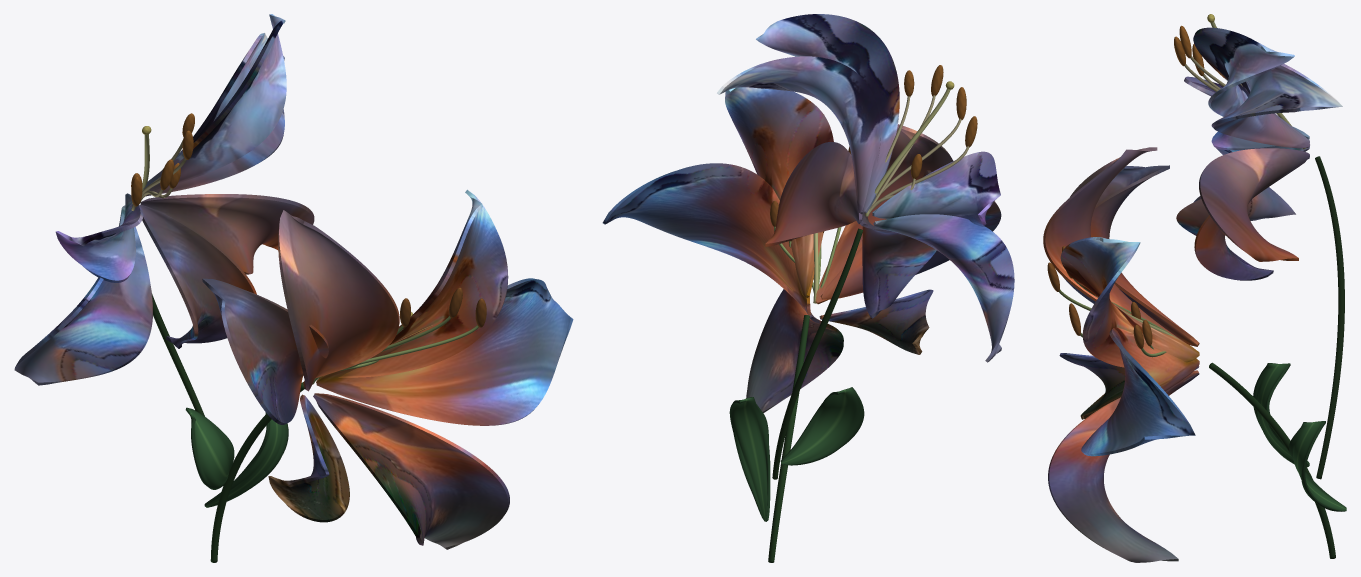
The model's file is lily-model.glb.
3 views of the same model, side by side, from view 1: azimuth 30°, elevation 25°; view 2: azimuth 150°, elevation 25°; view 3: azimuth 270°, elevation 25° (orthographic). The views are drawn at different scales.
Visible parts, largest first — view 1: lily-front-petal-right, lily-front-petal-lower-right, lily-front-petal-upper-left, lily-rear-petal-lower-left, lily-front-petal-upper-right, lily-front-petal-left, lily-rear-petal-top, lily-rear-petal-lower-right, lily-rear-petal-right, lily-front-petal-lower-left, lily-rear-petal-left, lily-rear-petal-upper-right (+4 smaller); view 2: lily-front-petal-right, lily-front-petal-upper-right, lily-rear-petal-top, lily-rear-petal-upper-right, lily-rear-petal-lower-left, lily-rear-petal-right, lily-front-petal-lower-right, lily-rear-petal-left, lily-rear-petal-lower-right, lily-leaf-left, lily-leaf-right, lily-front-petal-upper-left (+5 smaller); view 3: lily-front-petal-lower-right, lily-front-petal-right, lily-rear-petal-right, lily-front-petal-upper-right, lily-rear-petal-upper-right, lily-rear-petal-top, lily-front-petal-upper-left, lily-front-petal-left, lily-rear-petal-lower-right, lily-rear-branch-stem, lily-leaf-right, lily-front-petal-lower-left (+4 smaller).
Part boxes in pixels (x1,y1,x2,y2): lily-front-petal-right: [316, 278, 573, 425]; lily-front-petal-lower-right: [313, 393, 509, 549]; lily-front-petal-upper-left: [278, 210, 399, 391]; lily-rear-petal-lower-left: [14, 205, 152, 385]; lily-front-petal-upper-right: [338, 189, 508, 377]; lily-front-petal-left: [202, 278, 328, 424]; lily-rear-petal-top: [143, 14, 286, 191]; lily-rear-petal-lower-right: [140, 205, 256, 348]; lily-rear-petal-right: [140, 194, 314, 274]; lily-front-petal-lower-left: [268, 394, 349, 522]; lily-rear-petal-left: [55, 193, 143, 282]; lily-rear-petal-upper-right: [146, 33, 284, 196]; lily-front-petal-right: [602, 163, 809, 307]; lily-front-petal-upper-right: [725, 87, 833, 297]; lily-rear-petal-top: [756, 14, 899, 213]; lily-rear-petal-upper-right: [717, 56, 880, 214]; lily-rear-petal-lower-left: [873, 214, 1014, 362]; lily-rear-petal-right: [765, 142, 862, 246]; lily-front-petal-lower-right: [746, 289, 843, 412]; lily-rear-petal-left: [872, 151, 1000, 226]; lily-rear-petal-lower-right: [859, 213, 936, 318]; lily-leaf-left: [780, 387, 864, 465]; lily-leaf-right: [729, 397, 770, 521]; lily-front-petal-upper-left: [815, 124, 953, 304]; lily-front-petal-lower-right: [1048, 370, 1199, 562]; lily-front-petal-right: [1081, 327, 1199, 456]; lily-rear-petal-right: [1199, 148, 1309, 261]; lily-front-petal-upper-right: [1060, 237, 1199, 367]; lily-rear-petal-upper-right: [1211, 64, 1342, 148]; lily-rear-petal-top: [1193, 27, 1309, 142]; lily-front-petal-upper-left: [1043, 147, 1198, 351]; lily-front-petal-left: [1063, 165, 1199, 346]; lily-rear-petal-lower-right: [1176, 158, 1309, 280]; lily-rear-branch-stem: [1315, 156, 1344, 479]; lily-leaf-right: [1289, 421, 1346, 511]; lily-front-petal-lower-left: [1059, 353, 1199, 419].
Size of the model in its own units: 3.69 by 4.13 by 2.14.
2 materials, 1 textured.
